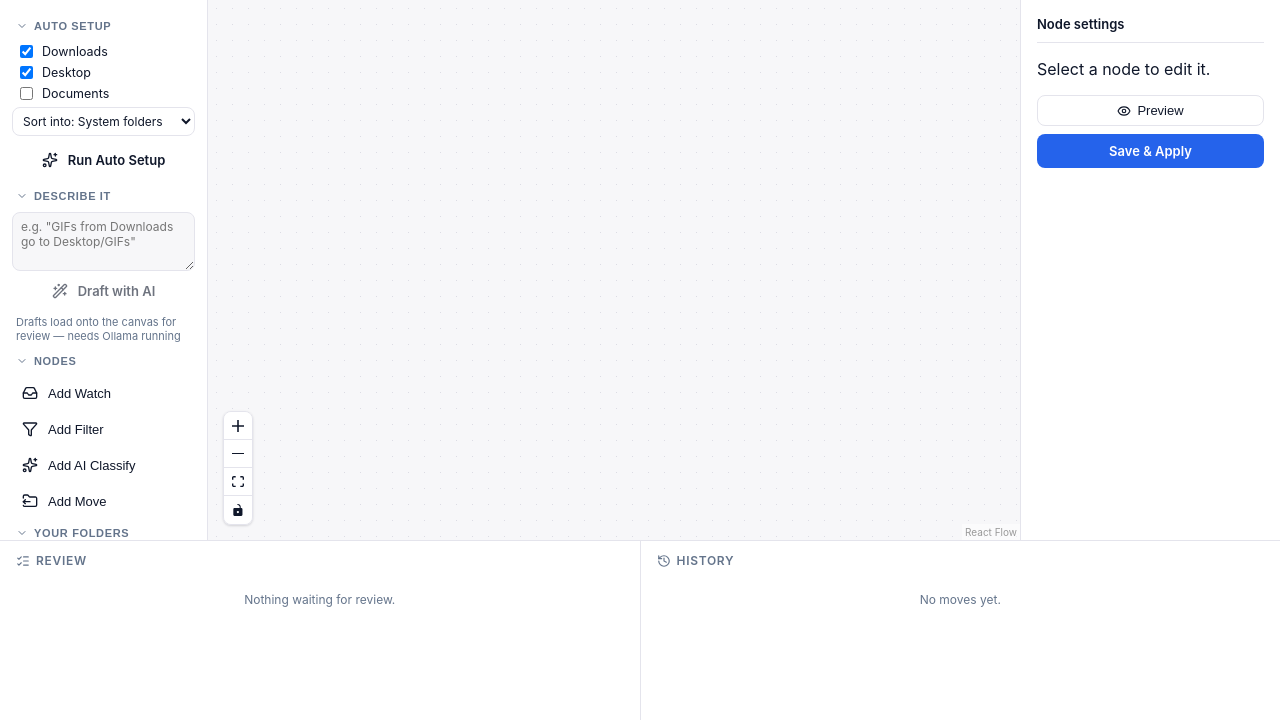
Test: Auto Setup UI › banner can be dismissed
The image size is (1280, 720).
What coordinates should you click on to do the following:
click the button "Run Auto Setup"
I would click on:
 (104, 160)
Its box is top-left (12, 144), bottom-right (195, 176).
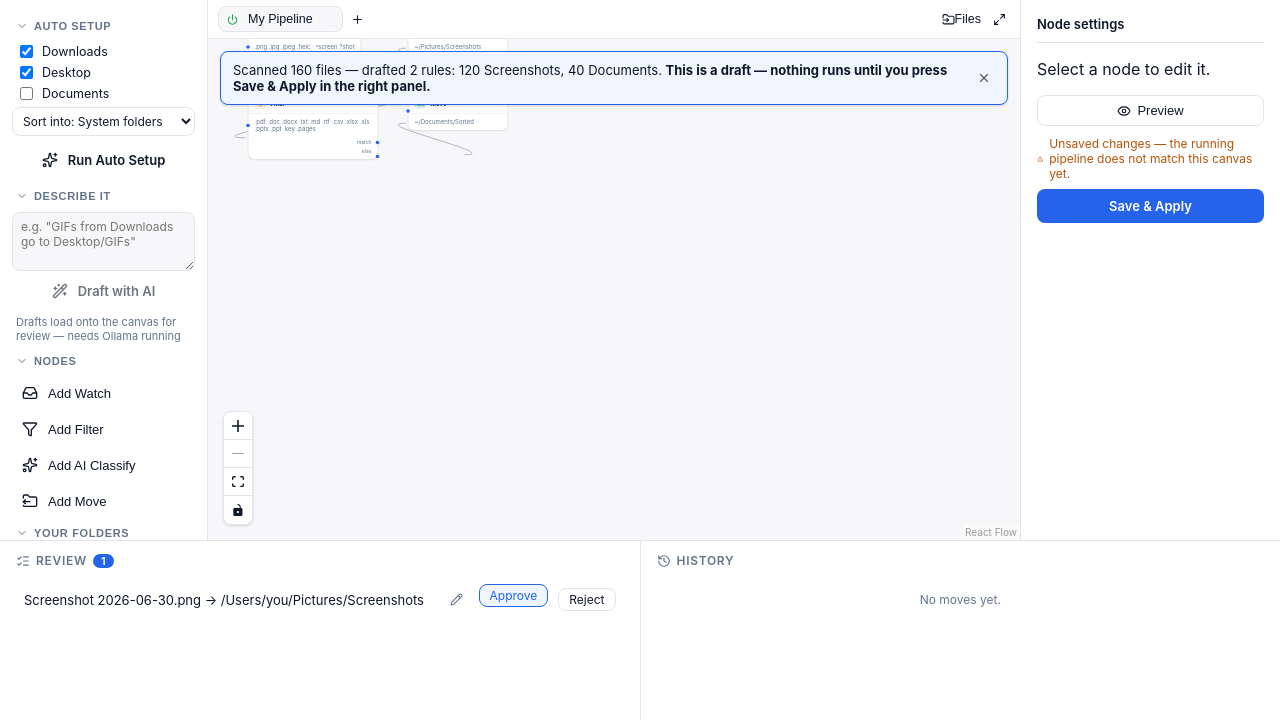
Check: the text "Scanned 160 files" is shown, box top-left (233, 62), bottom-right (963, 94)
What coordinates should you click on to do the following:
click the button named "dismiss"
I would click on:
 (984, 78)
Its box is top-left (973, 67), bottom-right (995, 89).
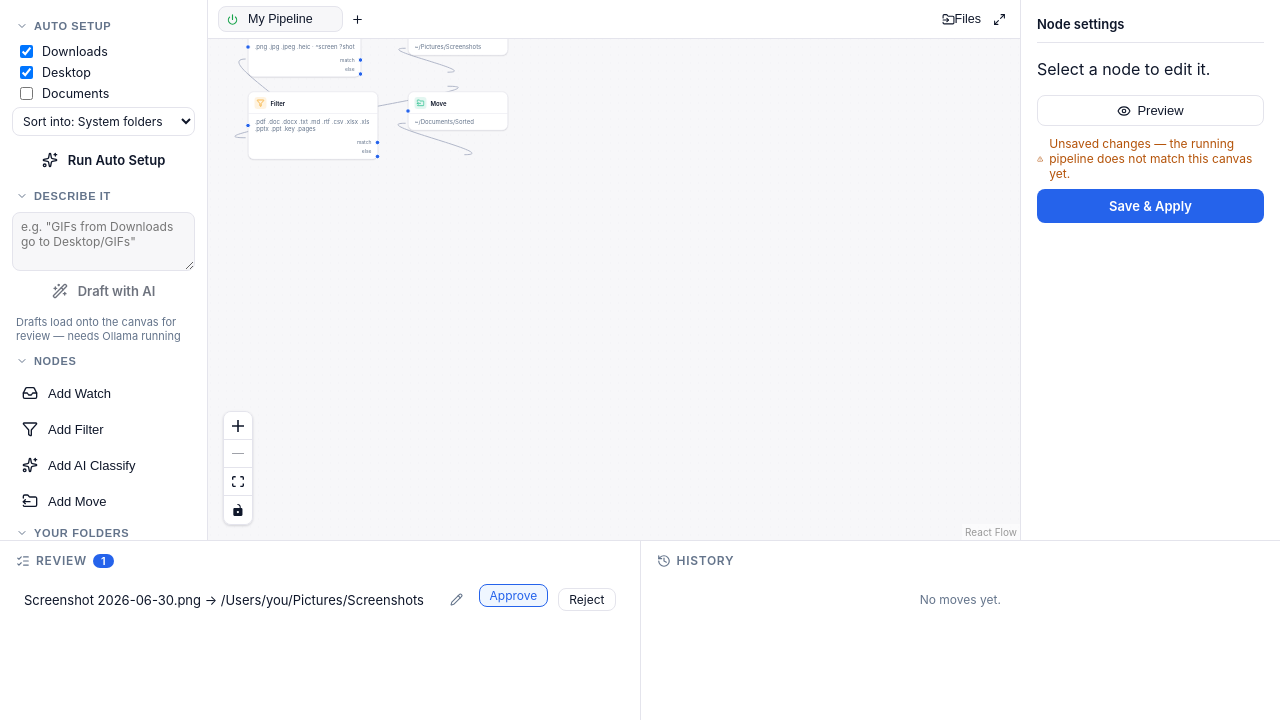
Check: the text "Scanned 160 files" is gone
